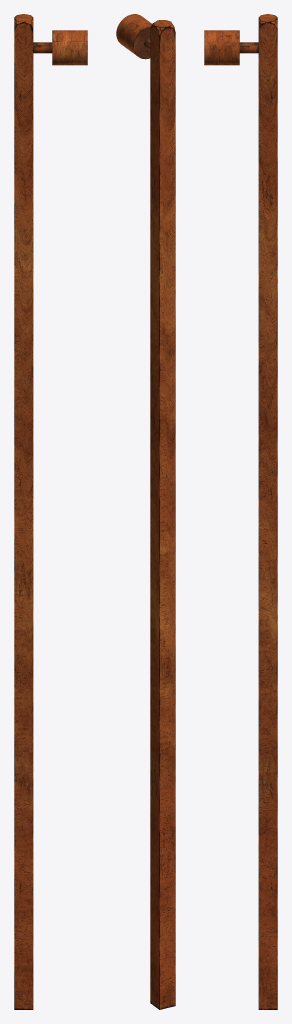
Rendered from hasira.fbx.
3 views of the same model, side by side, from view 1: azimuth 90°, elevation 25°; view 2: azimuth 210°, elevation 25°; view 3: azimuth 270°, elevation 25° (orthographic).
Visible parts, largest first — view 1: hasira; view 2: hasira; view 3: hasira.
Part boxes in pixels (x1,y1,x2,y2): hasira: (14, 14, 87, 1009); hasira: (116, 14, 175, 1009); hasira: (204, 14, 277, 1009).
Size of the model in its own units: 4.39 by 136 by 9.12.
